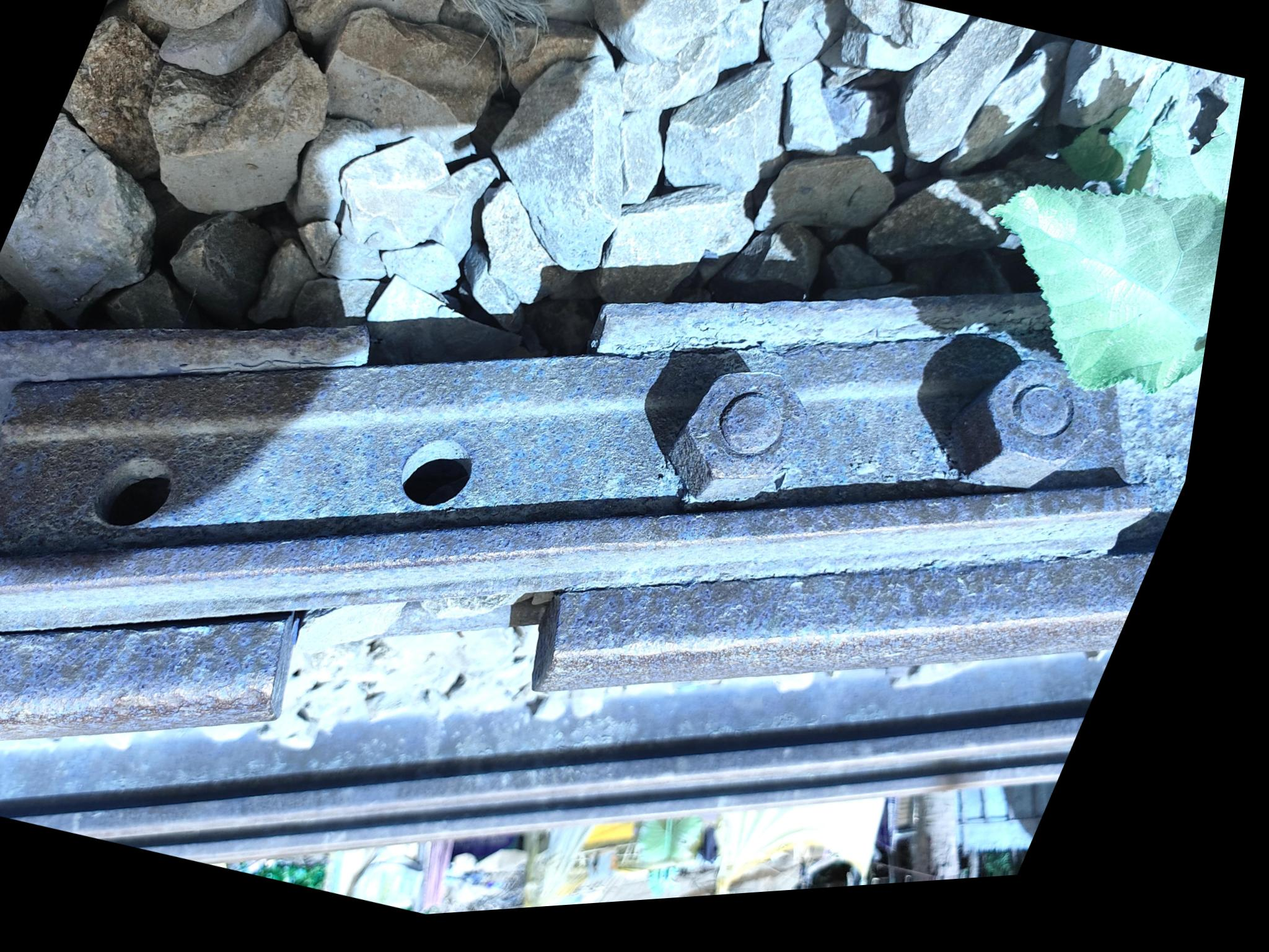person: (230, 490, 645, 841), (308, 187, 669, 491)
